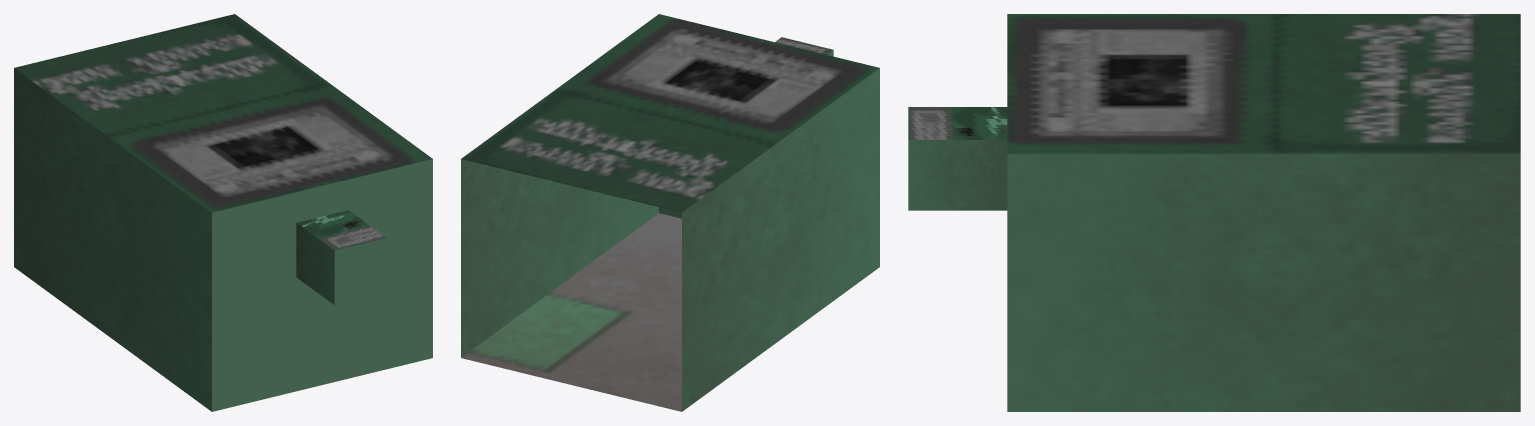
File: pz_native_street_decoration_01_93.obj
The picture shows the model from 3 angles, left to right: view 1: azimuth 30°, elevation 25°; view 2: azimuth 150°, elevation 25°; view 3: azimuth 270°, elevation 25°; orthographic projection. The views are drawn at different scales.
Parts seen in each view (by area): view 1: pz_native_street_decoration_01_93; view 2: pz_native_street_decoration_01_93; view 3: pz_native_street_decoration_01_93.
Part boxes in pixels (x1,y1,x2,y2): pz_native_street_decoration_01_93: (14, 14, 432, 411); pz_native_street_decoration_01_93: (461, 14, 879, 411); pz_native_street_decoration_01_93: (908, 14, 1520, 411).
Bounding box in the file's own units: 0.7892 × 0.6796 × 1.46.
1 material, 1 textured.
